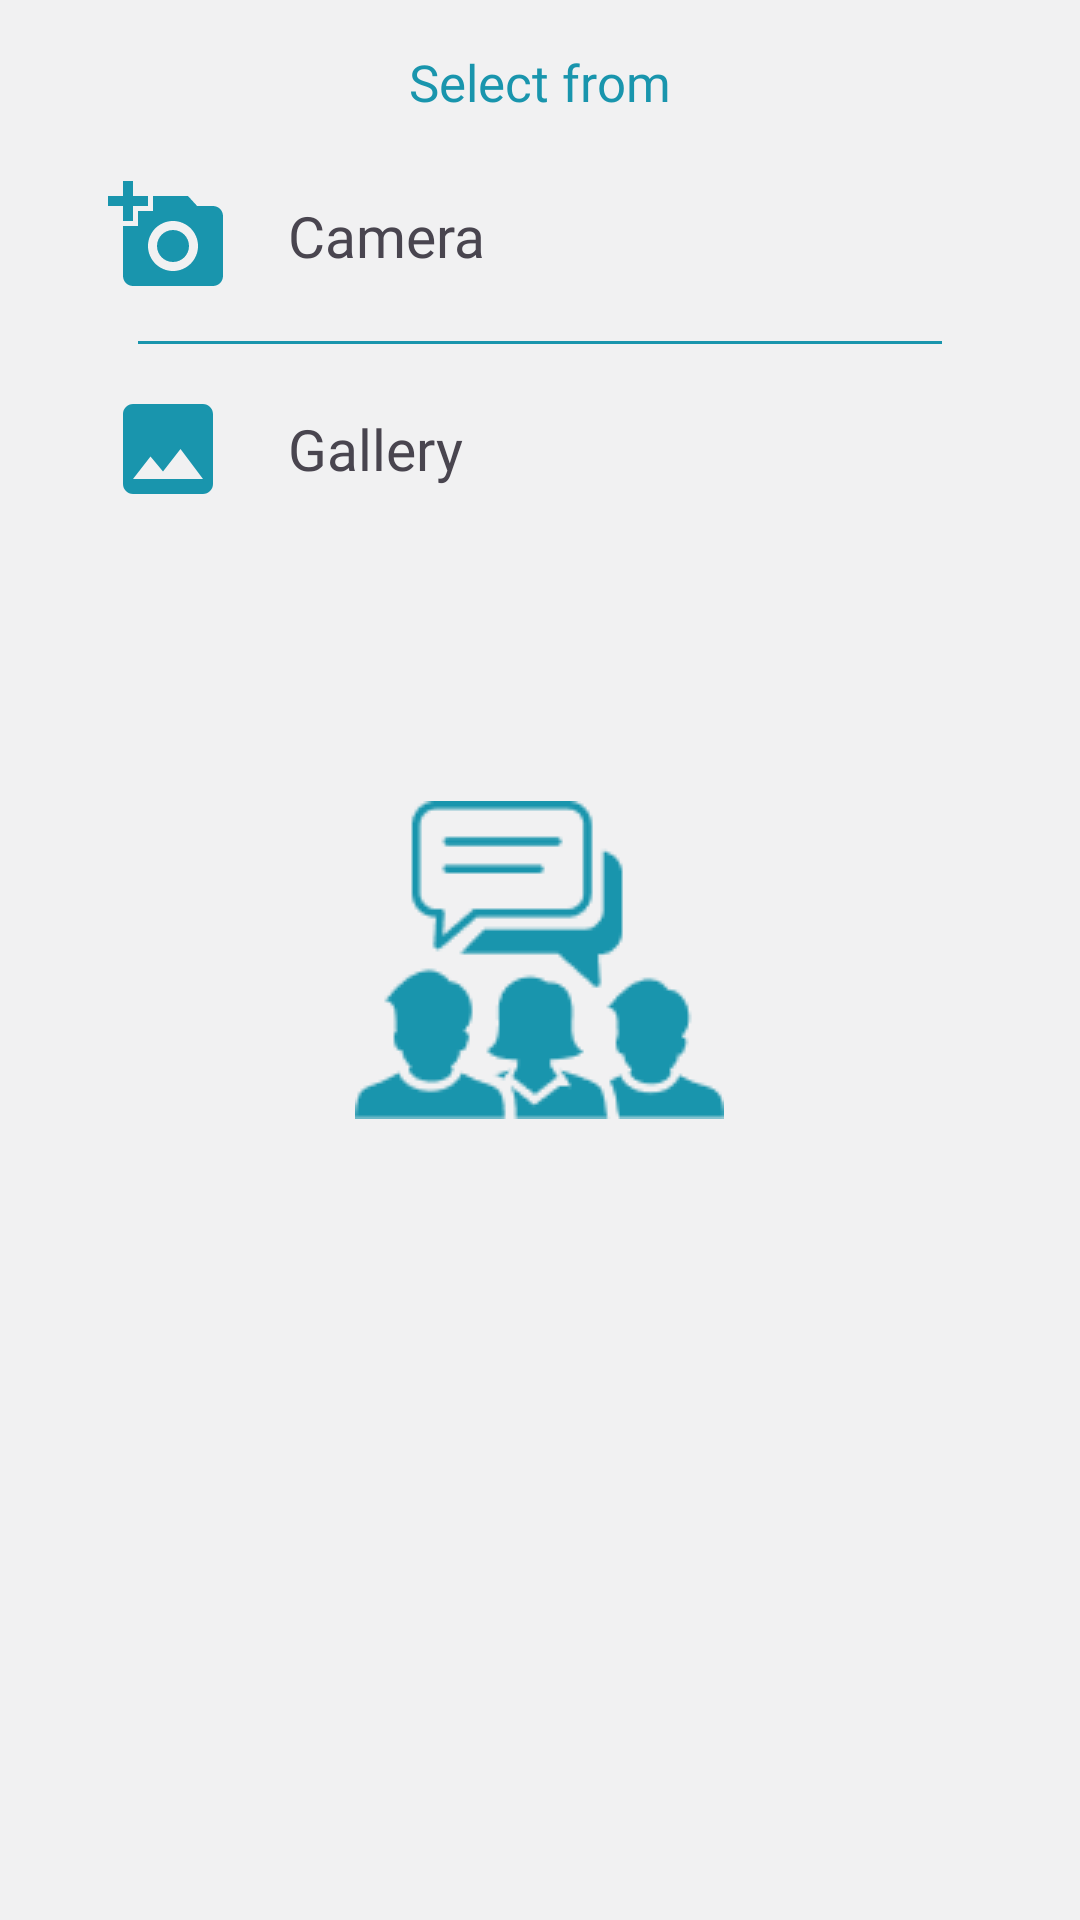

Icon click points for this 1080 x 1920 phone screenshot, format point (x, y):
add photo: point (165, 233)
